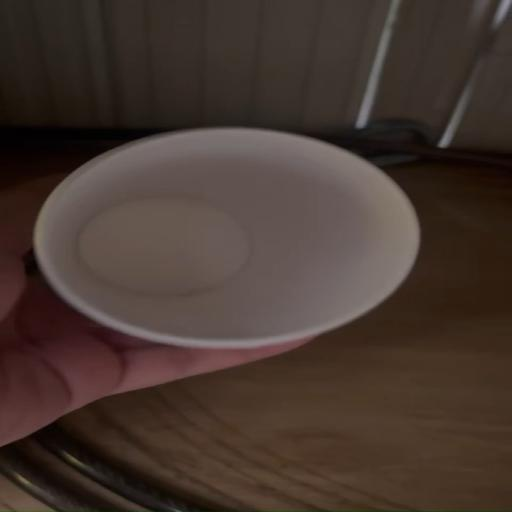Ly_giay: (33, 128, 419, 348)
